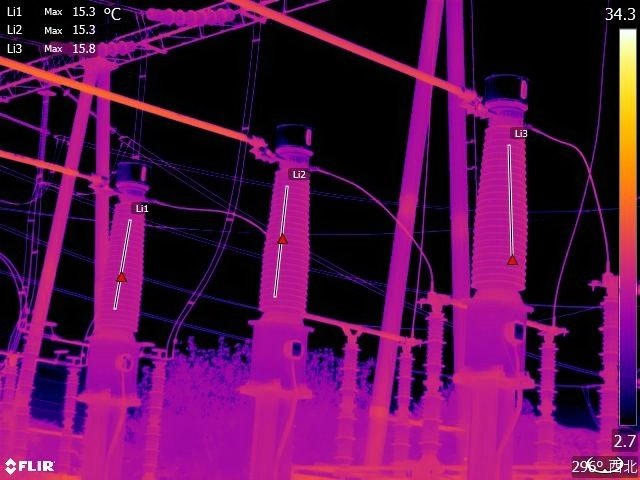current transformer: (453, 62, 538, 386), (233, 103, 320, 406), (73, 151, 154, 410)
insulator: (139, 4, 243, 26), (48, 32, 138, 57), (34, 85, 54, 190)
post insulator: (419, 312, 449, 460), (533, 337, 566, 466), (330, 335, 360, 467), (596, 295, 620, 459), (139, 357, 168, 480), (389, 348, 417, 469), (54, 366, 81, 474)
switch: (426, 286, 572, 341), (307, 310, 421, 349), (2, 342, 83, 372)
